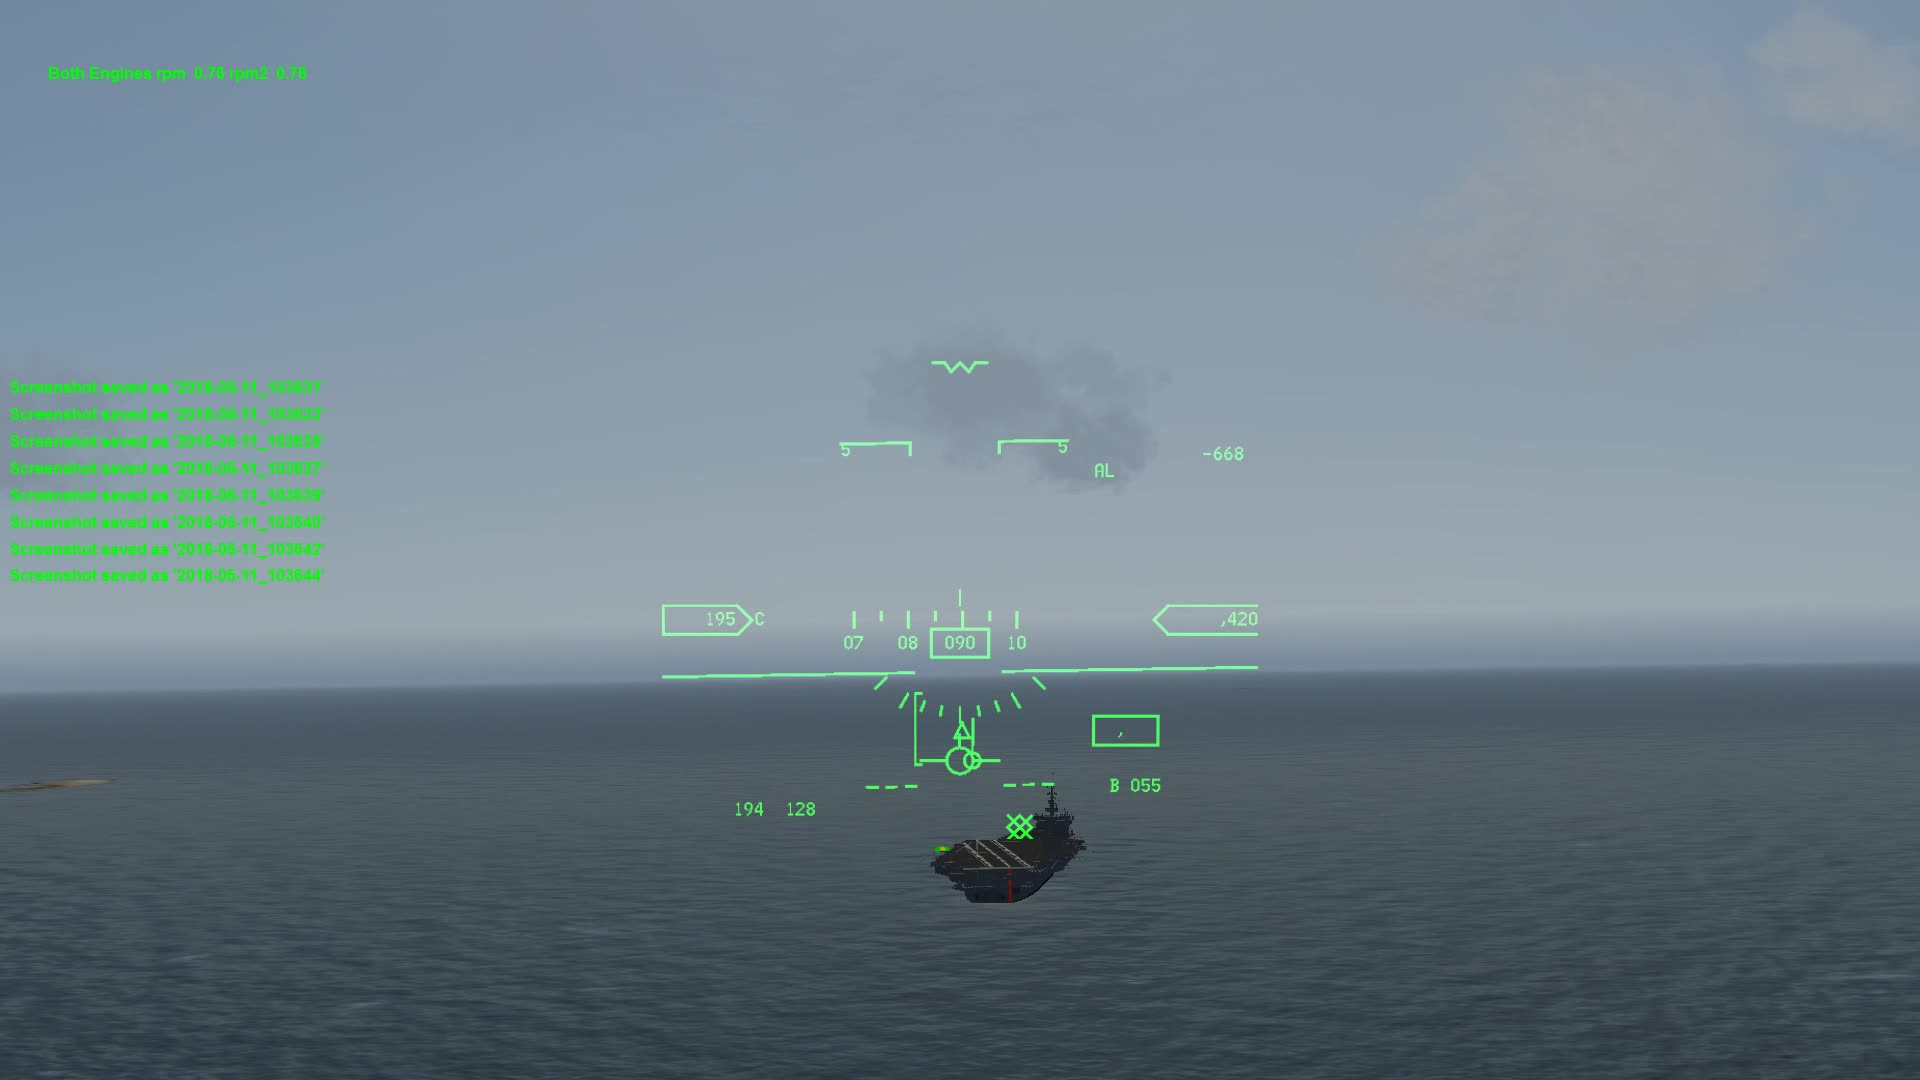speed vector: (920, 738, 1017, 785)
